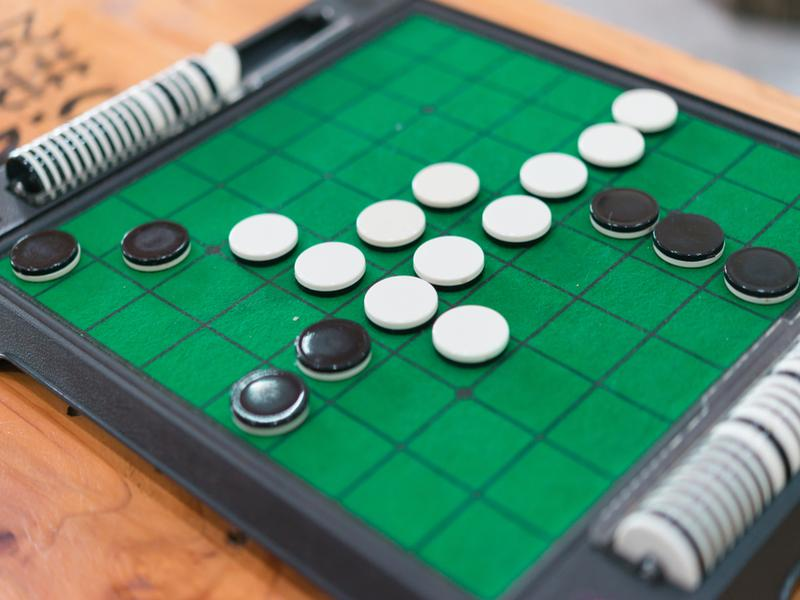black: (223, 366, 318, 448), (291, 309, 384, 385), (111, 213, 201, 281), (582, 181, 666, 248)
white: (421, 291, 522, 372), (359, 267, 446, 340), (509, 136, 596, 207), (282, 236, 374, 303), (476, 180, 557, 255), (221, 208, 307, 275), (406, 149, 482, 215)
